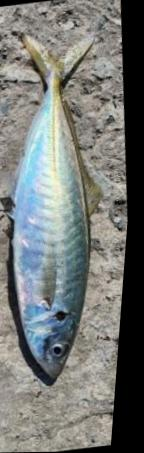fish: (0, 30, 110, 380)
